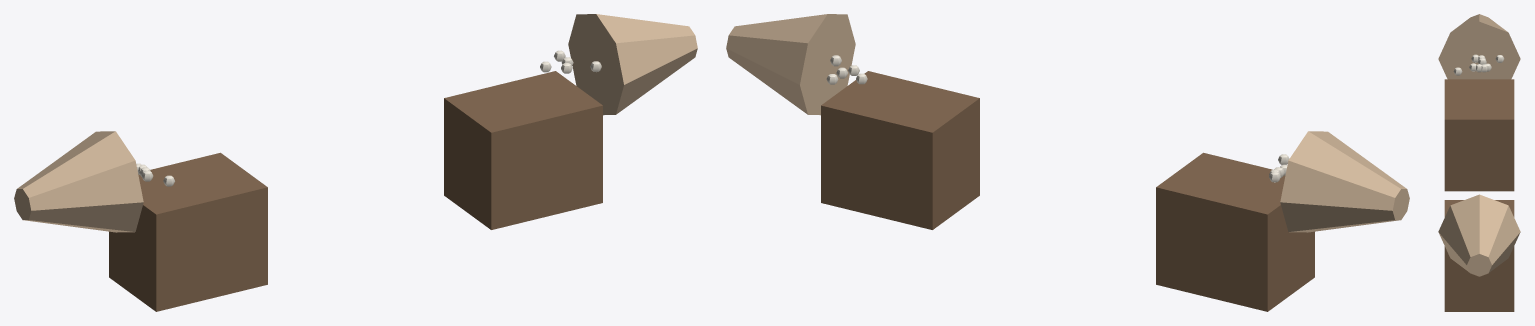
File: Dakon_Board.fbx
3 renders of one model, left to right at view 1: azimuth 30°, elevation 25°; view 2: azimuth 150°, elevation 25°; view 3: azimuth 270°, elevation 25°, orthographic. The views are drawn at different scales.
Visible parts, largest first — view 1: Dakon_Board; view 2: Dakon_Board; view 3: Dakon_Board.
Part boxes in pixels (left/top/right/bottom): Dakon_Board: left=14, top=14, right=697, bottom=311; Dakon_Board: left=726, top=14, right=1409, bottom=311; Dakon_Board: left=1438, top=14, right=1520, bottom=311.
Size of the model in its own units: 1.79 by 0.43 by 0.26.
